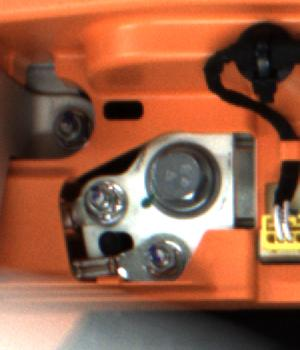nut_b: (138, 136, 222, 218)
screw_s: (82, 181, 122, 223), (141, 235, 181, 275), (54, 112, 85, 146)
